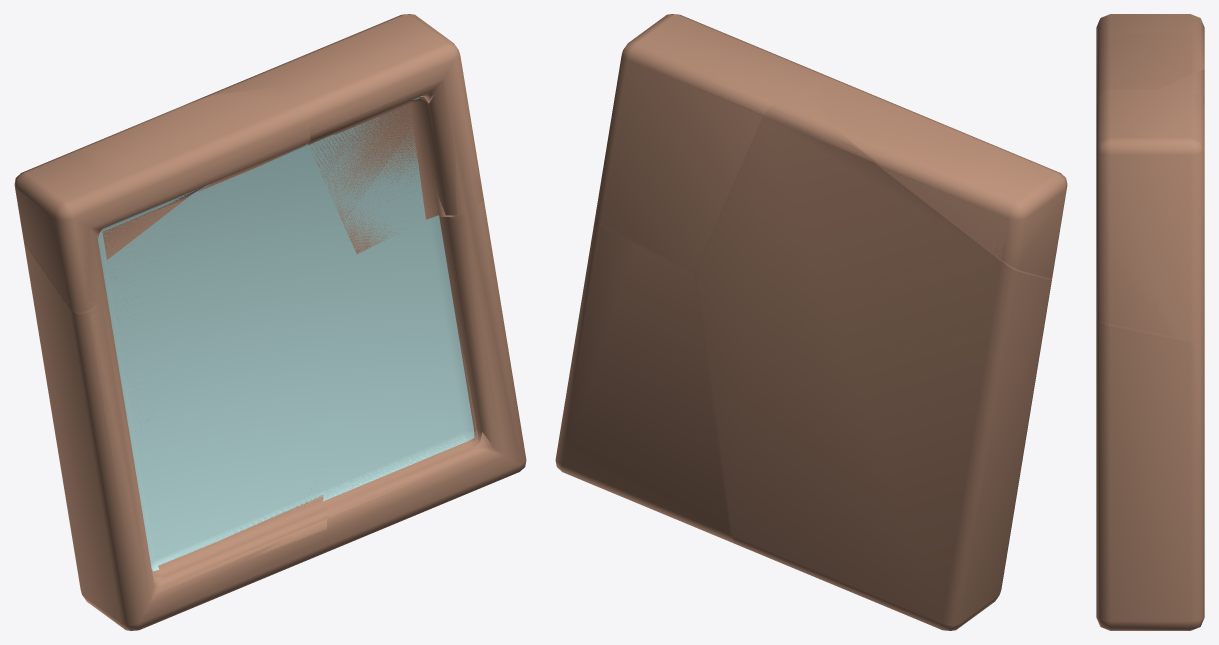
The model's file is Picture_frame.002.fbx.
3 renders of one model, left to right at view 1: azimuth 30°, elevation 25°; view 2: azimuth 150°, elevation 25°; view 3: azimuth 270°, elevation 25°, orthographic. The views are drawn at different scales.
Visible parts, largest first — view 1: Picture_frame.002, Picture_frame.002_cell.001, Picture_frame.002_cell.003, Picture_frame.002_cell.004, Picture.002, Picture_frame.002_cell.002; view 2: Picture_frame.002_cell.003, Picture_frame.002_cell.002, Picture_frame.002_cell.004, Picture_frame.002, Picture_frame.002_cell.001; view 3: Picture_frame.002_cell.002, Picture_frame.002, Picture_frame.002_cell.004, Picture_frame.002_cell.001.
Boxes of the visible parts, left/top/right/bottom form: Picture_frame.002: left=22, top=14, right=524, bottom=624; Picture_frame.002_cell.001: left=14, top=87, right=307, bottom=312; Picture_frame.002_cell.003: left=22, top=144, right=327, bottom=630; Picture_frame.002_cell.004: left=264, top=14, right=483, bottom=254; Picture.002: left=106, top=97, right=474, bottom=565; Picture_frame.002_cell.002: left=324, top=214, right=526, bottom=553; Picture_frame.002_cell.003: left=696, top=108, right=1051, bottom=630; Picture_frame.002_cell.002: left=555, top=226, right=734, bottom=543; Picture_frame.002_cell.004: left=600, top=14, right=775, bottom=270; Picture_frame.002: left=558, top=14, right=1056, bottom=629; Picture_frame.002_cell.001: left=799, top=76, right=1067, bottom=278; Picture_frame.002_cell.002: left=1099, top=323, right=1203, bottom=630; Picture_frame.002: left=1096, top=14, right=1204, bottom=630; Picture_frame.002_cell.004: left=1096, top=93, right=1204, bottom=339; Picture_frame.002_cell.001: left=1096, top=15, right=1204, bottom=102.
Bounding box in the file's own units: 49.75 × 51.71 × 9.69.
